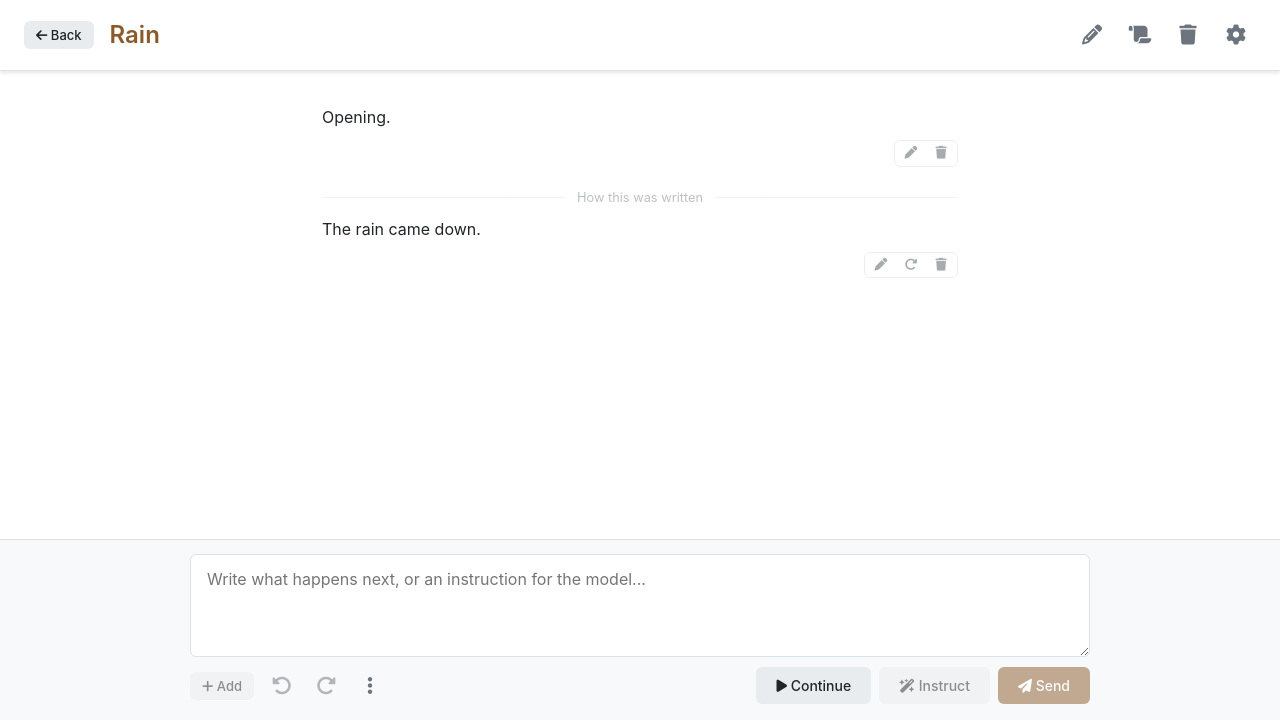
Test: StoryEditor in Enhanced Story Mode › keeps the seam on a passage through undoing and redoing its edit
Click the 2nd button titled "Edit".
click(881, 265)  # box [867,255,895,276]
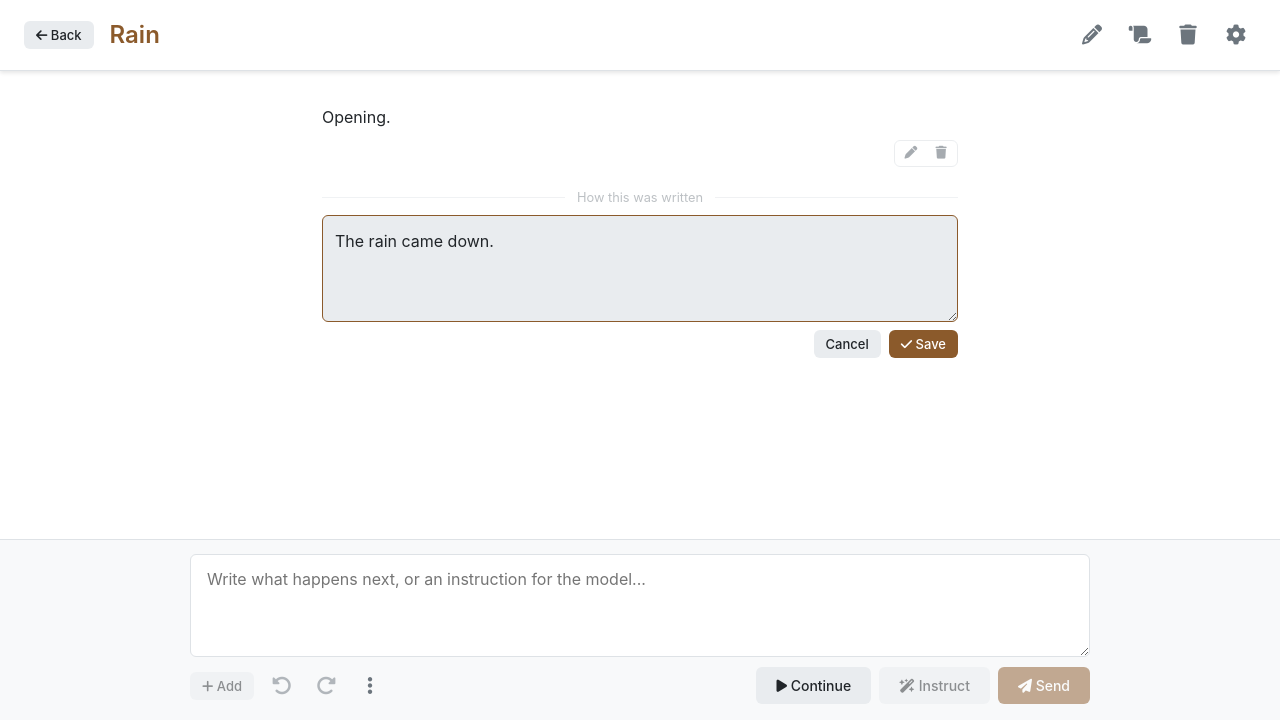
Replace the text in the text box named "Edit this passage" with "The rain poured." at (640,269), box [322,215,958,322]
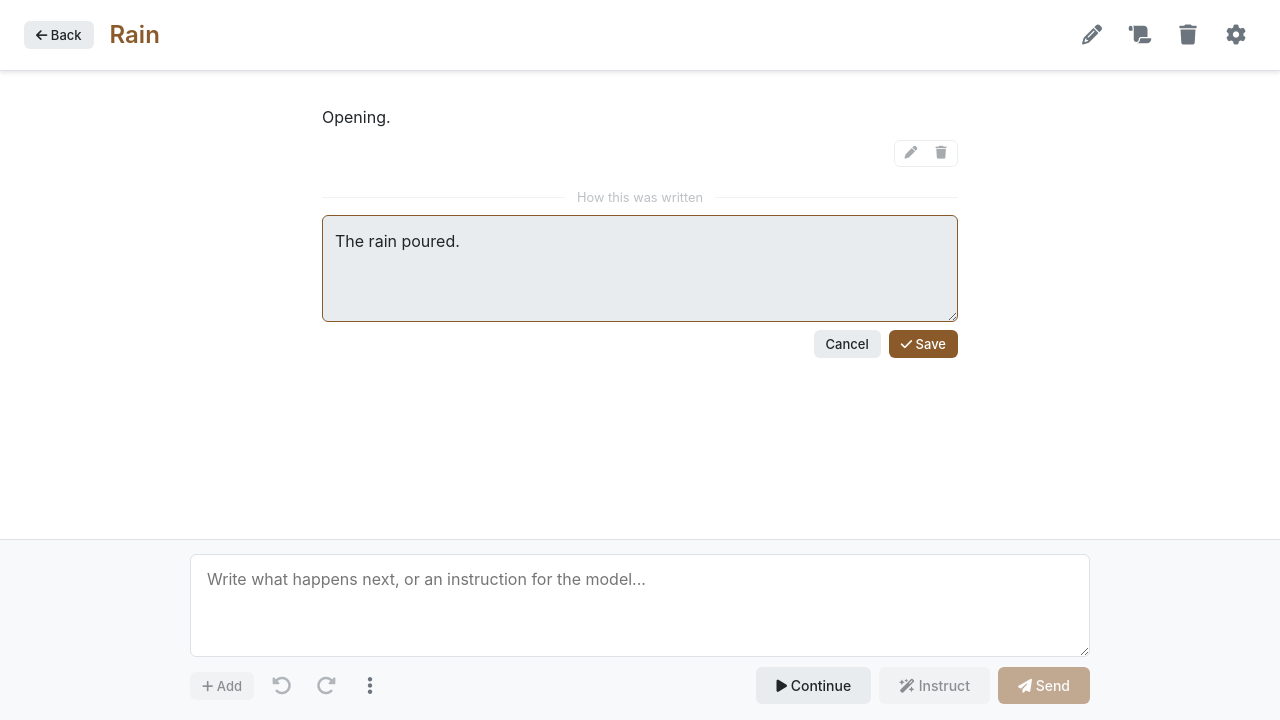
Click the button "Save".
click(923, 344)  # box [889,330,958,358]
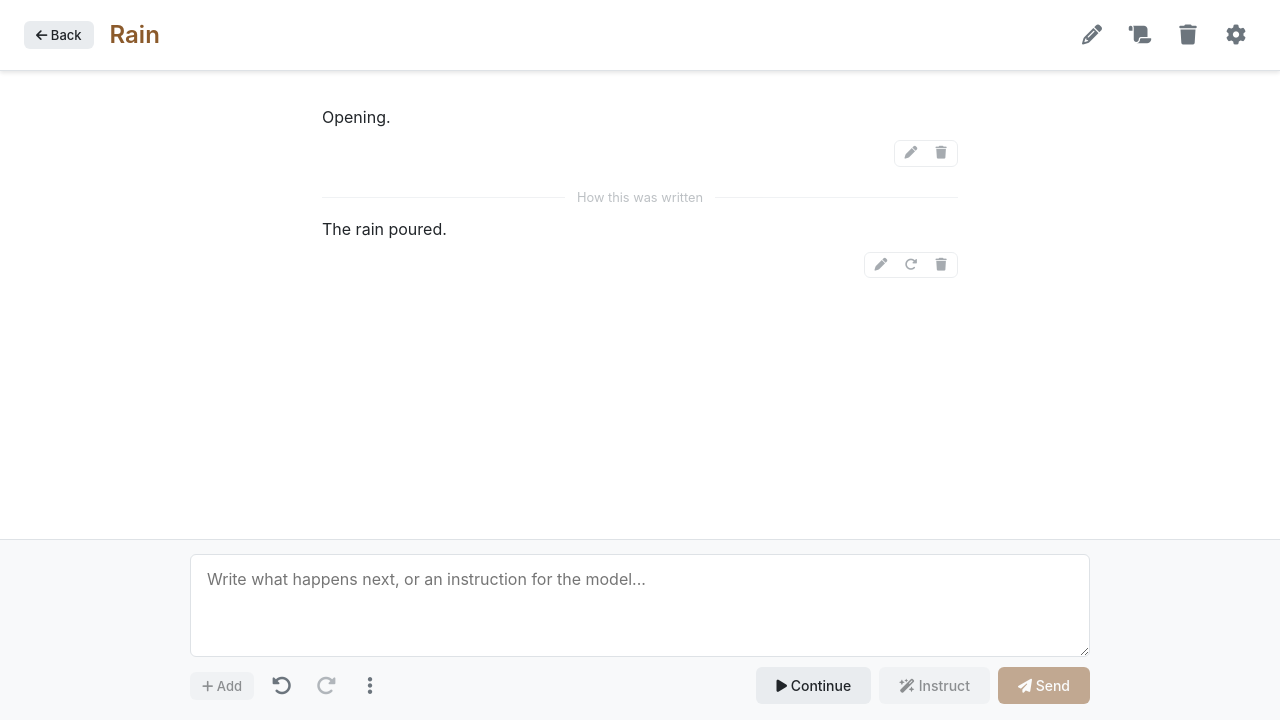
Click the button named "Undo".
click(282, 686)  # box [262,668,302,704]
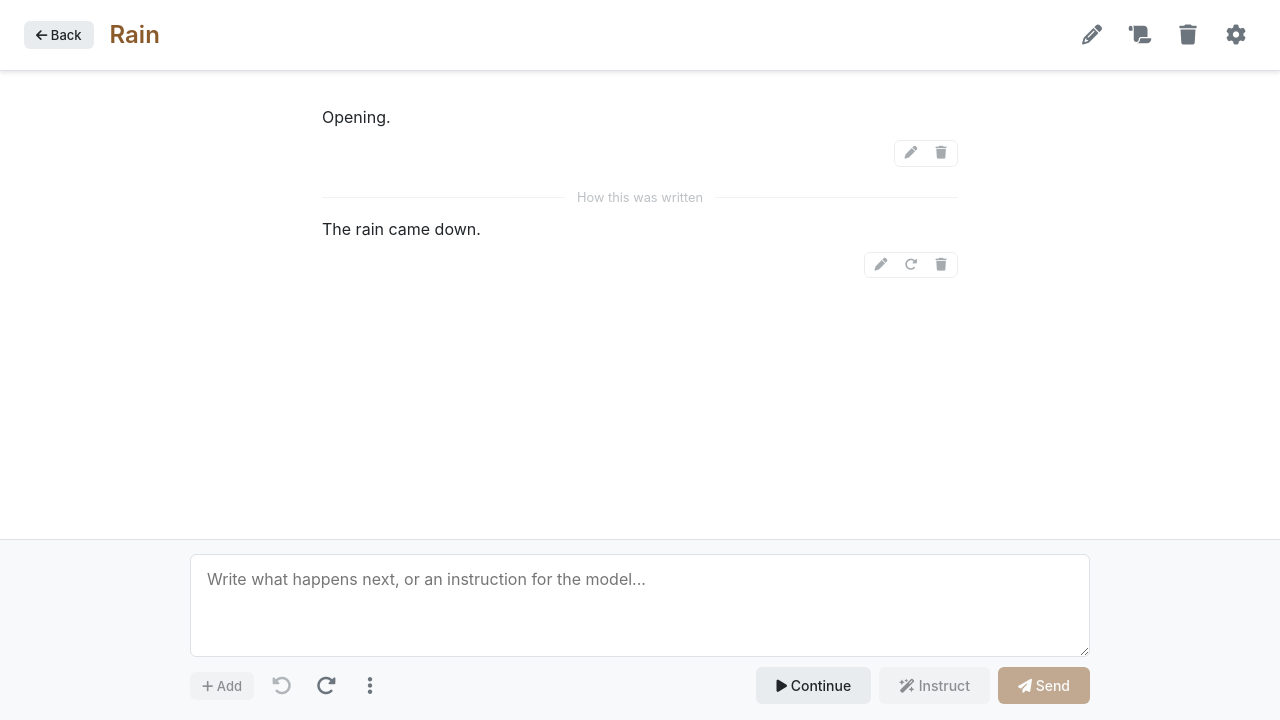
expect the element with class "turn" reads "The rain came down.": met, box [322,219,481,239]
Click the button with class "seam-toggle".
click(640, 198)  # box [322,183,958,213]
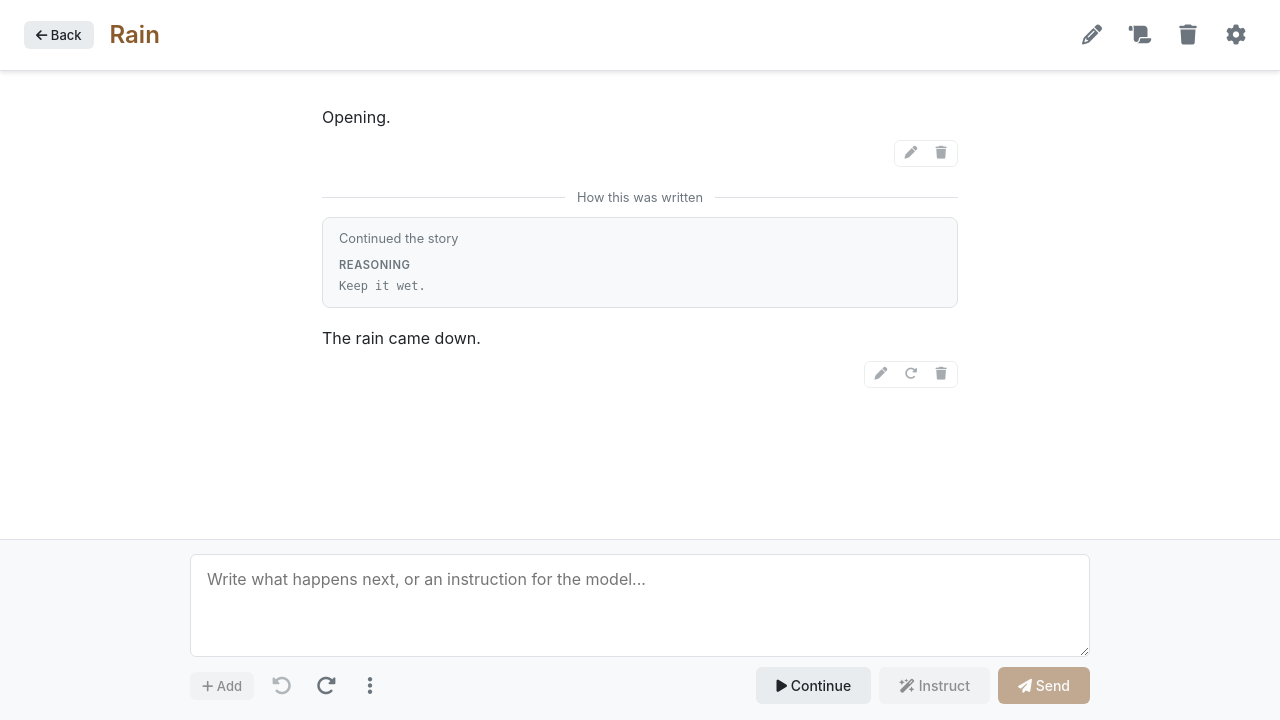
expect the element with class "seam-panel" shows "Keep it wet.": met, box [339,280,426,294]
Click the button named "Redo".
click(326, 686)  # box [306,668,346,704]
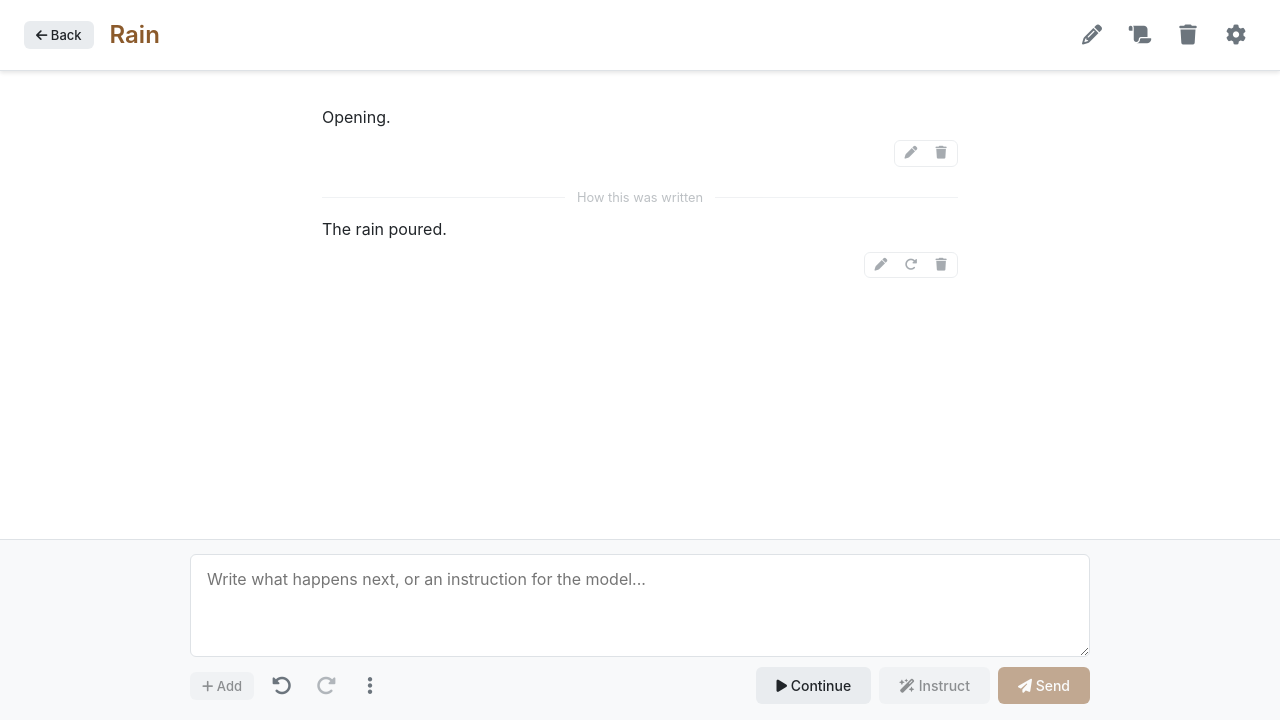
expect the element with class "turn" reads "The rain poured.": met, box [322,219,447,239]
